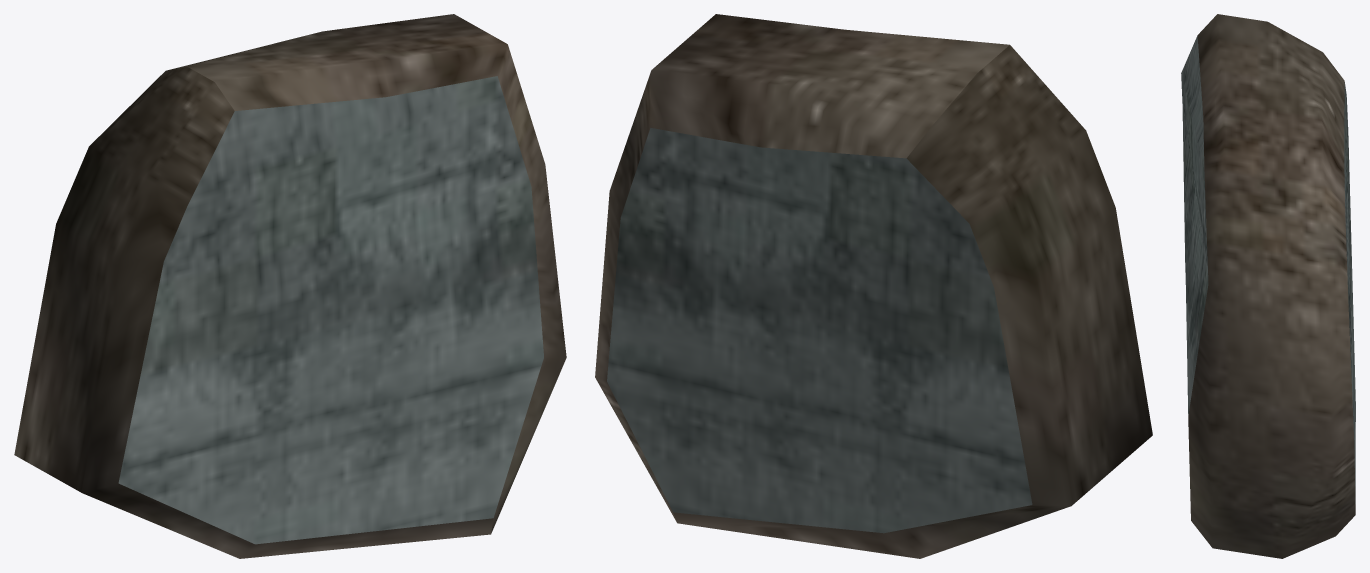
The model's file is gully_bridge_debris_sm02.glb.
The picture shows the model from 3 angles, left to right: view 1: azimuth 30°, elevation 25°; view 2: azimuth 150°, elevation 25°; view 3: azimuth 270°, elevation 25°; orthographic projection. The views are drawn at different scales.
Size of the model in its own units: 47.22 by 48.13 by 17.58.
Materials: 2 (2 with a texture image).
